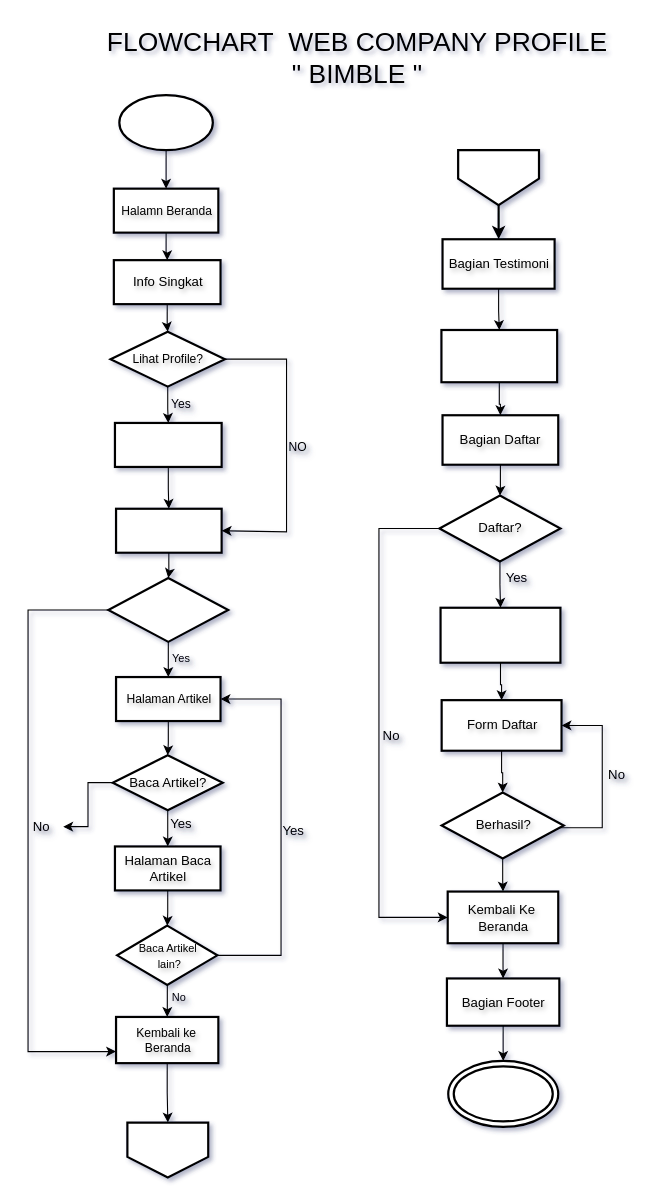
The diagram is 663 pixels wide and 1203 high, and some of its shapes have lost their labels. The centre of each missing label's shape, as x and y in pixels:
"Bagian Alamat" belongs at [499,355].
"END" belongs at [503,1093].
"Halaman Daftar" belongs at [500,634].
"Halaman Profile" belongs at [167,444].
"Kembali Halaman Beranda" belongs at [168,530].
"Lihat Artikel lebih?" belongs at [168,609].
"START" belongs at [165,122].
